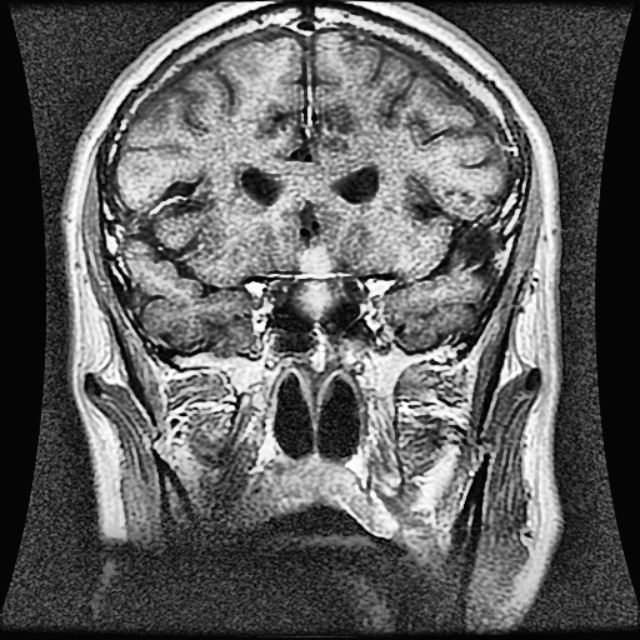Pituitary: (292, 240, 343, 315)
